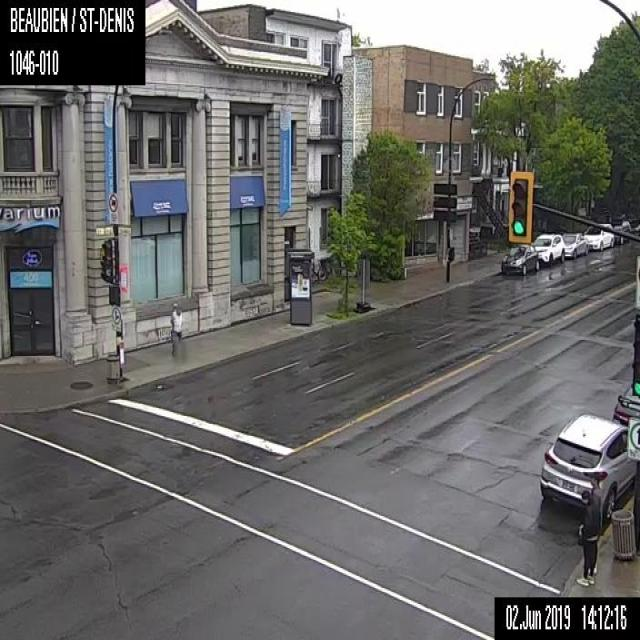pedestrian: (586, 470, 606, 573), (576, 490, 594, 585), (171, 300, 182, 359)
vehicle: (539, 412, 639, 520), (529, 233, 565, 267), (612, 382, 639, 426), (501, 243, 538, 275), (582, 222, 613, 250), (560, 231, 588, 258), (612, 220, 631, 244)
